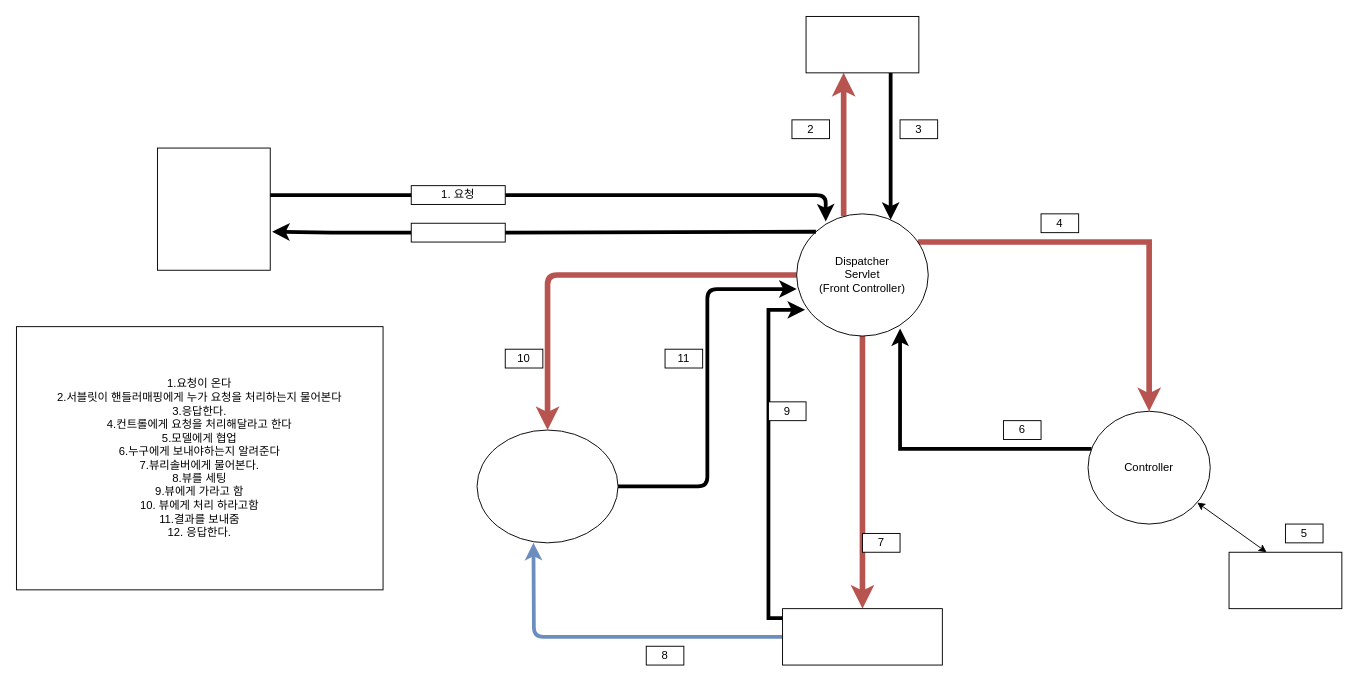
Image size: 1358x682. Some labels were removed from this diagram. Each missing label, with the centre of its shape:
"12.응답" goes at point 457,232.
"Handler Mapping" goes at point 862,44.
"Model" goes at point 1285,580.
"VIew" goes at point 547,486.
"View Resolver login을 해석하고 view 를 보여주기 위해 적절한 처리를 실행" goes at point 862,636.
"클라이언트" goes at point 213,208.
